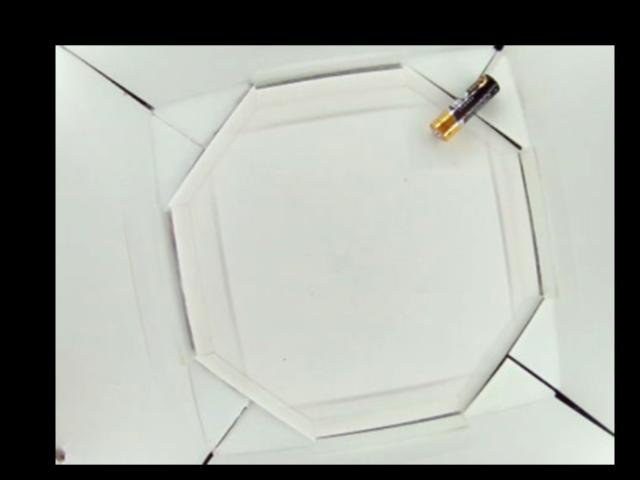Battery: (430, 72, 500, 141)
